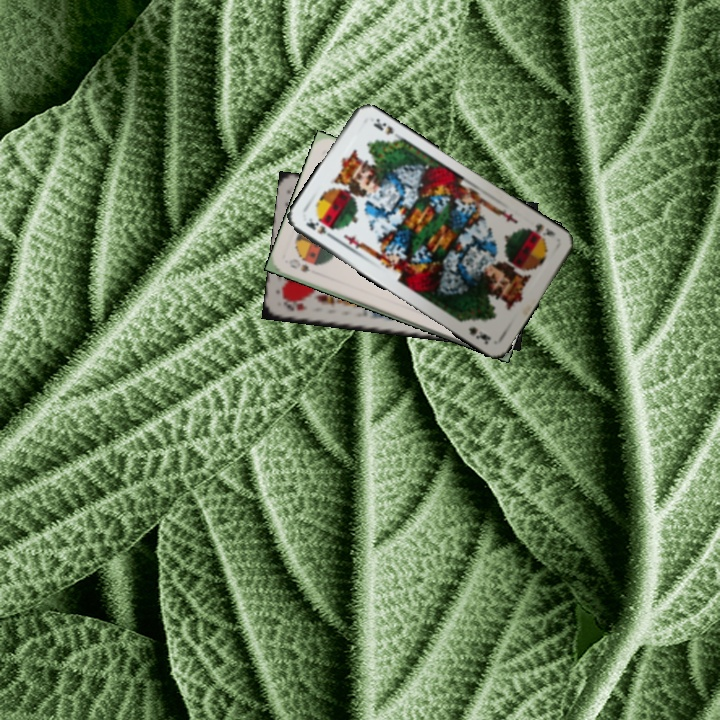HK: (280, 297, 310, 314)
SK: (302, 213, 337, 242), (523, 220, 558, 245)
SO: (285, 254, 312, 275)
